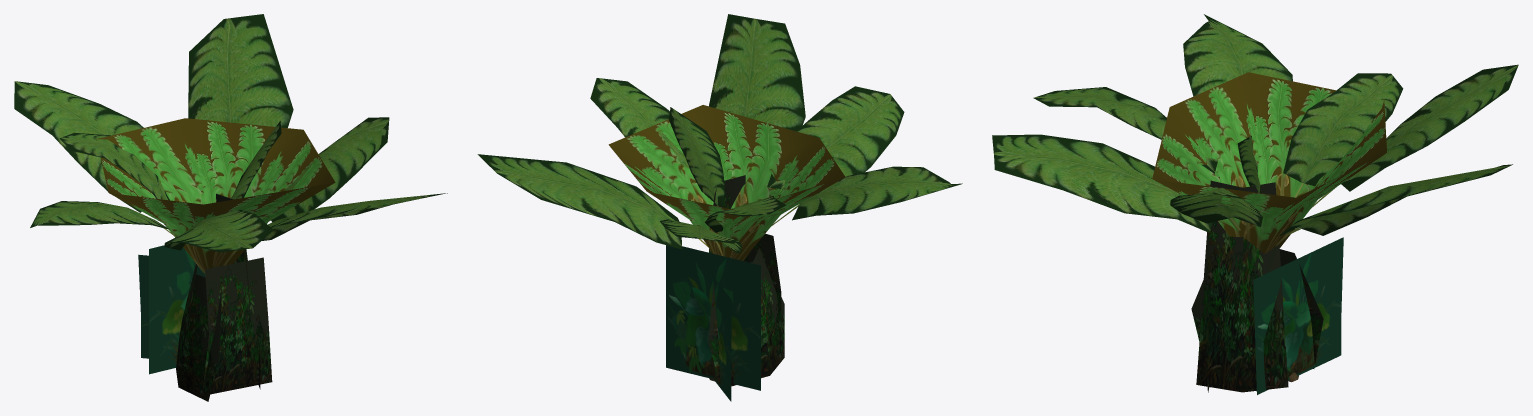
Rendered from fern_tree_e.fbx.
3 renders of one model, left to right at view 1: azimuth 30°, elevation 25°; view 2: azimuth 150°, elevation 25°; view 3: azimuth 270°, elevation 25°, orthographic. The views are drawn at different scales.
Parts seen in each view (by area): view 1: leaf_cone, fern_leaf07, pPlane3, fern_leaf03, pPlane1, pPlane7, fern_leaf04, fern_leaf01, fern_leaf06, fern_leaf02, fern_leaf08, fern_leaf05 (+2 smaller); view 2: leaf_cone, pPlane1, fern_leaf08, fern_leaf07, fern_leaf01, fern_leaf06, fern_leaf04, pPlane7, fern_leaf05, pPlane6, pPlane3, fern_leaf03 (+2 smaller); view 3: leaf_cone, pPlane4, fern_leaf08, pPlane6, fern_leaf02, fern_leaf03, fern_leaf06, fern_leaf07, fern_leaf01, fern_leaf04, pPlane7, fern_leaf05.
Part boxes in pixels (x1,y1,x2,y2): leaf_cone: [97, 118, 335, 273]; fern_leaf07: [188, 14, 293, 127]; pPlane3: [202, 257, 272, 394]; fern_leaf03: [14, 81, 143, 212]; pPlane1: [149, 245, 196, 374]; pPlane7: [176, 264, 221, 401]; fern_leaf04: [271, 117, 389, 222]; fern_leaf01: [164, 210, 273, 252]; fern_leaf06: [30, 201, 203, 272]; fern_leaf02: [59, 133, 169, 200]; fern_leaf08: [224, 193, 447, 265]; fern_leaf05: [230, 121, 281, 199]; leaf_cone: [608, 105, 845, 260]; pPlane1: [666, 245, 760, 390]; fern_leaf08: [709, 14, 805, 131]; fern_leaf07: [477, 154, 710, 250]; fern_leaf01: [767, 86, 904, 193]; fern_leaf06: [742, 166, 962, 260]; fern_leaf04: [590, 78, 689, 168]; pPlane7: [708, 248, 784, 386]; fern_leaf05: [669, 107, 724, 206]; pPlane6: [713, 276, 731, 400]; pPlane3: [743, 233, 781, 355]; fern_leaf03: [660, 219, 741, 255]; leaf_cone: [1152, 72, 1386, 253]; pPlane4: [1196, 180, 1288, 392]; fern_leaf08: [992, 134, 1212, 232]; pPlane6: [1253, 237, 1343, 394]; fern_leaf02: [1283, 73, 1403, 197]; fern_leaf03: [1311, 64, 1518, 208]; fern_leaf06: [1183, 14, 1292, 184]; fern_leaf07: [1275, 164, 1512, 246]; fern_leaf01: [1033, 87, 1229, 183]; fern_leaf04: [1170, 187, 1262, 231]; pPlane7: [1191, 249, 1323, 368]; fern_leaf05: [1237, 135, 1260, 192].
Size of the model in its own units: 4364 by 2890 by 4814.
2 materials, 2 textured.
